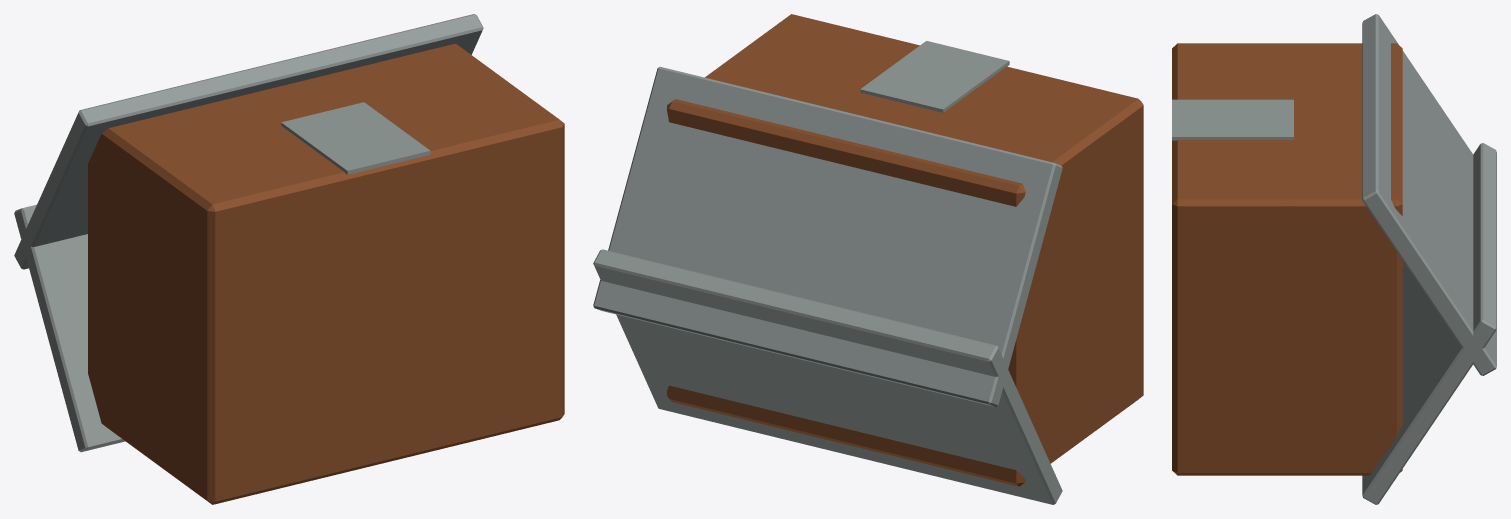
Rendered from farmhouse_b.glb.
3 renders of one model, left to right at view 1: azimuth 30°, elevation 25°; view 2: azimuth 150°, elevation 25°; view 3: azimuth 270°, elevation 25°, orthographic. The views are drawn at different scales.
Visible parts, largest first — view 1: building_shell.001, roof.003, roof.002, door.001; view 2: roof.003, building_shell.001, roof.002, door.001; view 3: building_shell.001, roof.003, roof.002, door.001.
Part boxes in pixels (x1,y1,x2,y2): building_shell.001: (88, 43, 564, 504); roof.003: (14, 14, 483, 269); roof.002: (14, 204, 125, 452); door.001: (281, 102, 430, 174); roof.003: (593, 66, 1062, 406); building_shell.001: (667, 14, 1143, 486); roof.002: (593, 249, 1062, 504); door.001: (860, 40, 1009, 112); building_shell.001: (1172, 43, 1402, 475); roof.003: (1362, 14, 1496, 375); roof.002: (1362, 143, 1496, 504); door.001: (1172, 99, 1293, 140).
Size of the model in its own units: 6.24 by 5.11 by 4.79.
